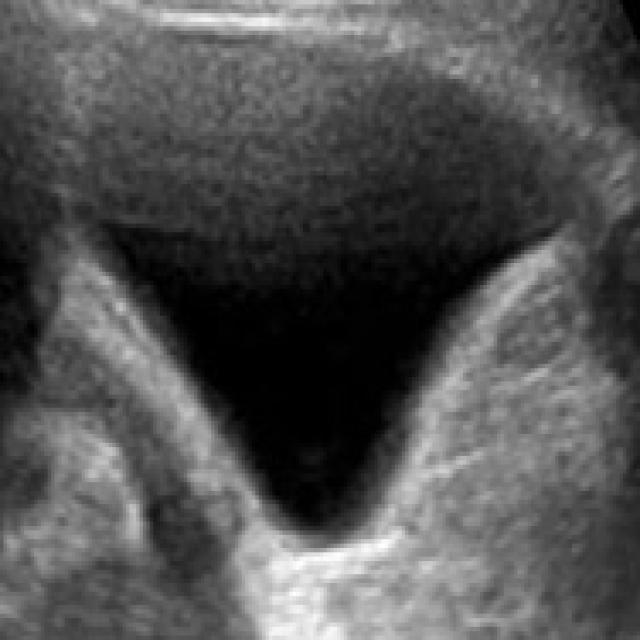bladder: (52, 22, 621, 608)
